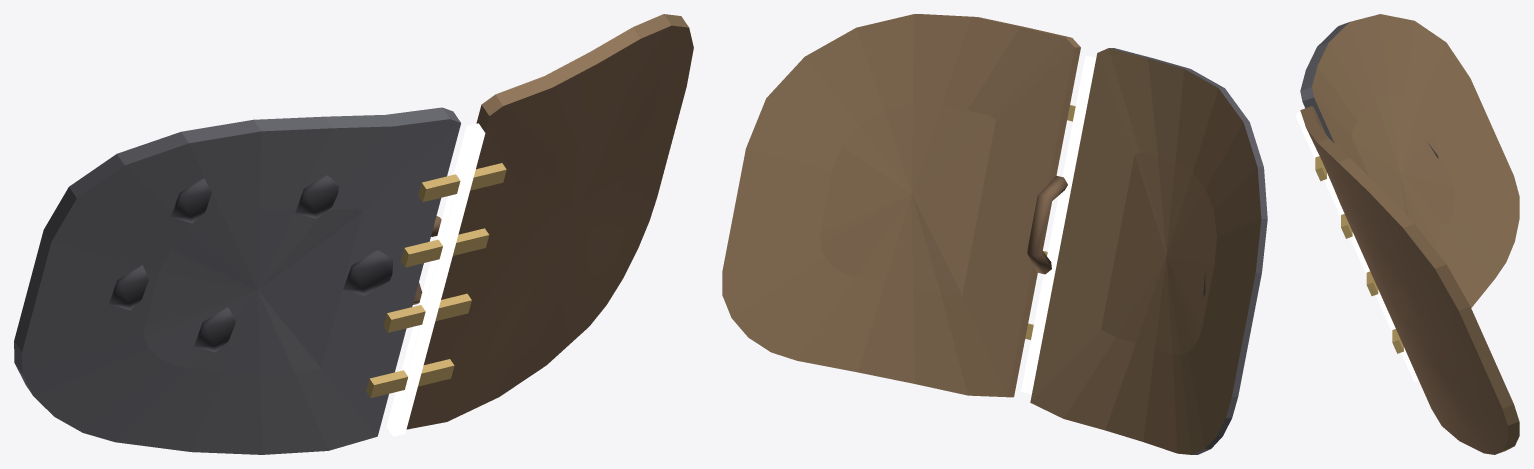
File: shield-half-share.glb
3 views of the same model, side by side, from view 1: azimuth 30°, elevation 25°; view 2: azimuth 150°, elevation 25°; view 3: azimuth 270°, elevation 25° (orthographic). The views are drawn at different scales.
Parts seen in each view (by area): view 1: shield-half-share; view 2: shield-half-share; view 3: shield-half-share.
Boxes of the visible parts, x1,y1,x2,y2 form: shield-half-share: (14, 14, 693, 454); shield-half-share: (722, 14, 1267, 454); shield-half-share: (1296, 14, 1519, 454).
Bounding box in the file's own units: 1.5 × 0.9103 × 0.6198.
